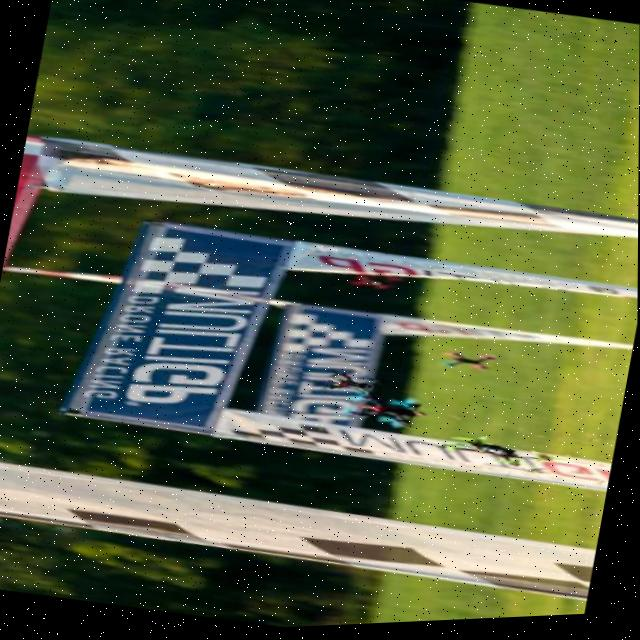drones: (203, 207, 639, 551)
